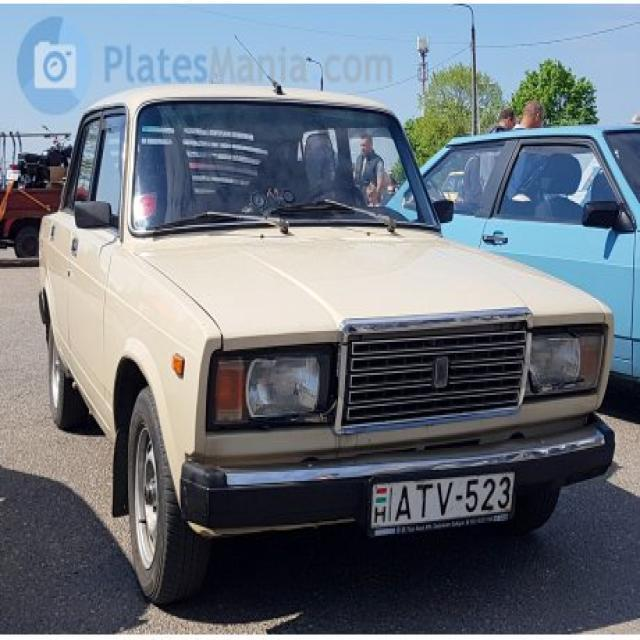licence: (367, 474, 519, 536)
